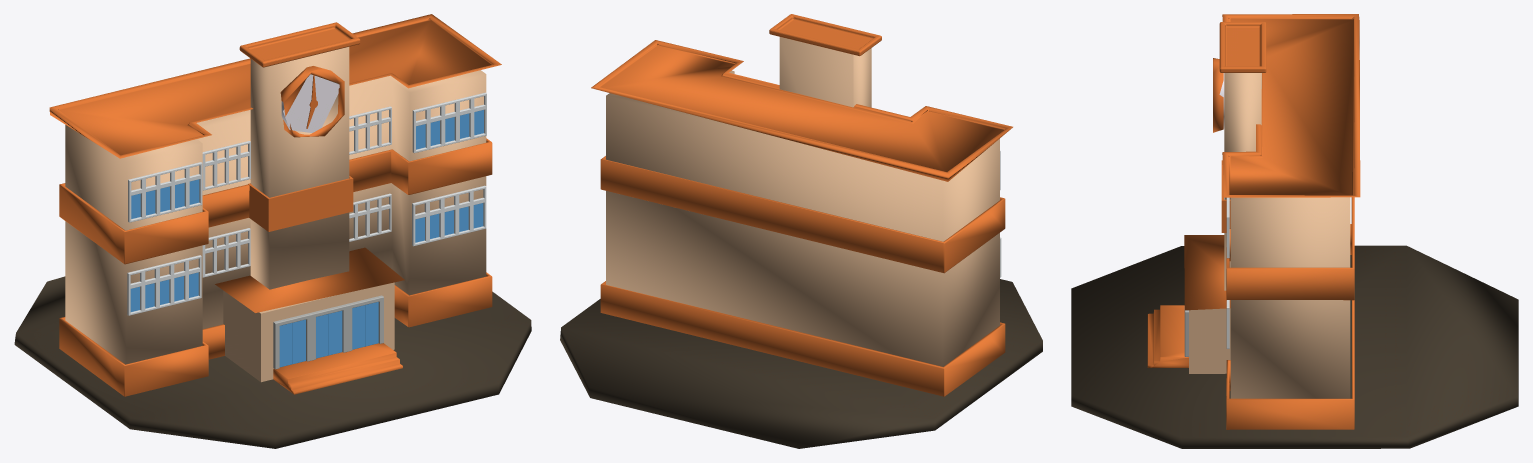
The model's file is School2.glb.
3 renders of one model, left to right at view 1: azimuth 30°, elevation 25°; view 2: azimuth 150°, elevation 25°; view 3: azimuth 270°, elevation 25°, orthographic. The views are drawn at different scales.
Parts seen in each view (by area): view 1: Obj3d66-19715261-9-598; view 2: Obj3d66-19715261-9-598; view 3: Obj3d66-19715261-9-598.
Part boxes in pixels (x1,y1,x2,y2): Obj3d66-19715261-9-598: (14,14,531,448); Obj3d66-19715261-9-598: (560,14,1042,448); Obj3d66-19715261-9-598: (1071,14,1518,448).
Bounding box in the file's own units: 1.37 × 1.03 × 1.36.
1 material, 1 textured.
